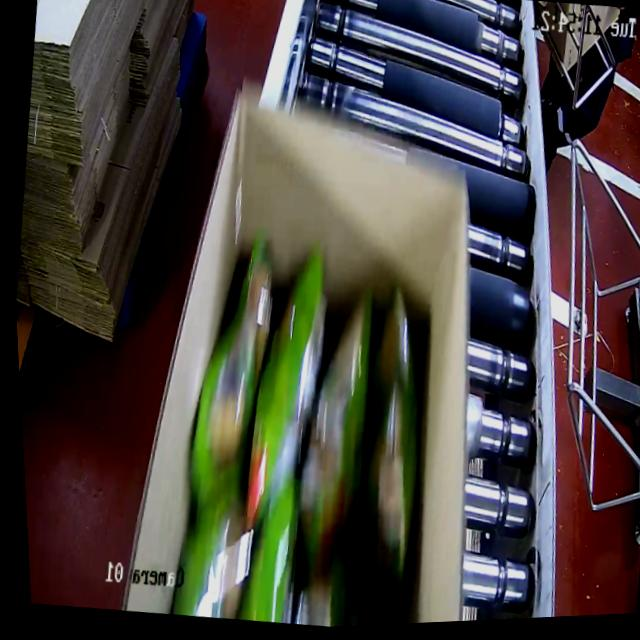YOGURT_HERB: (160, 248, 452, 634)
